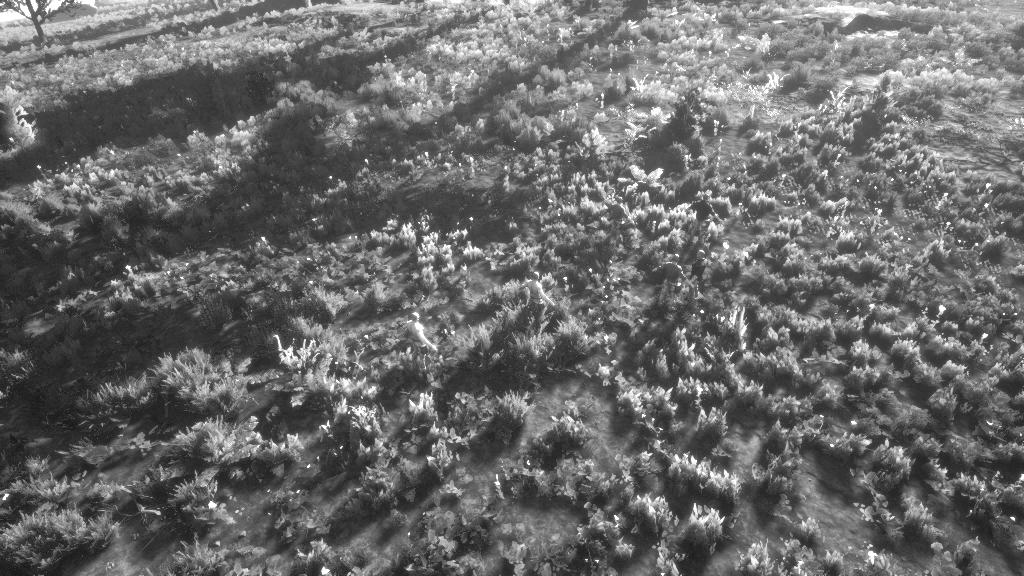human: (645, 243, 720, 322), (390, 296, 443, 378), (594, 182, 645, 254), (515, 265, 568, 330), (681, 176, 726, 248)
